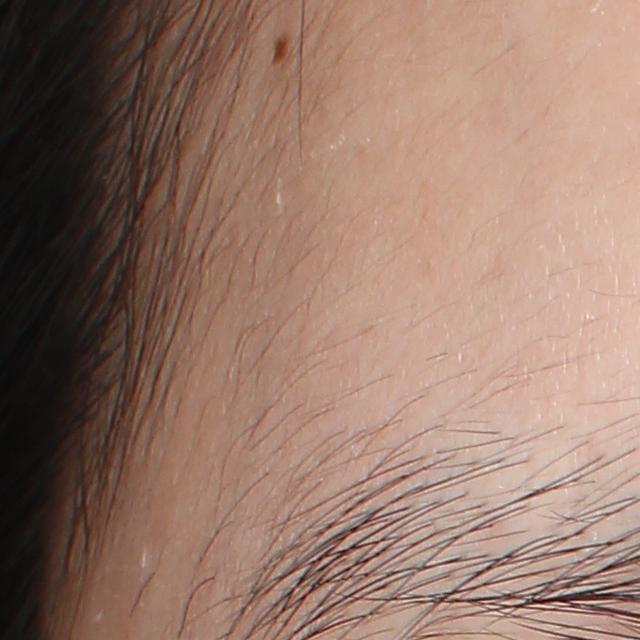nevus: (270, 32, 293, 67)
